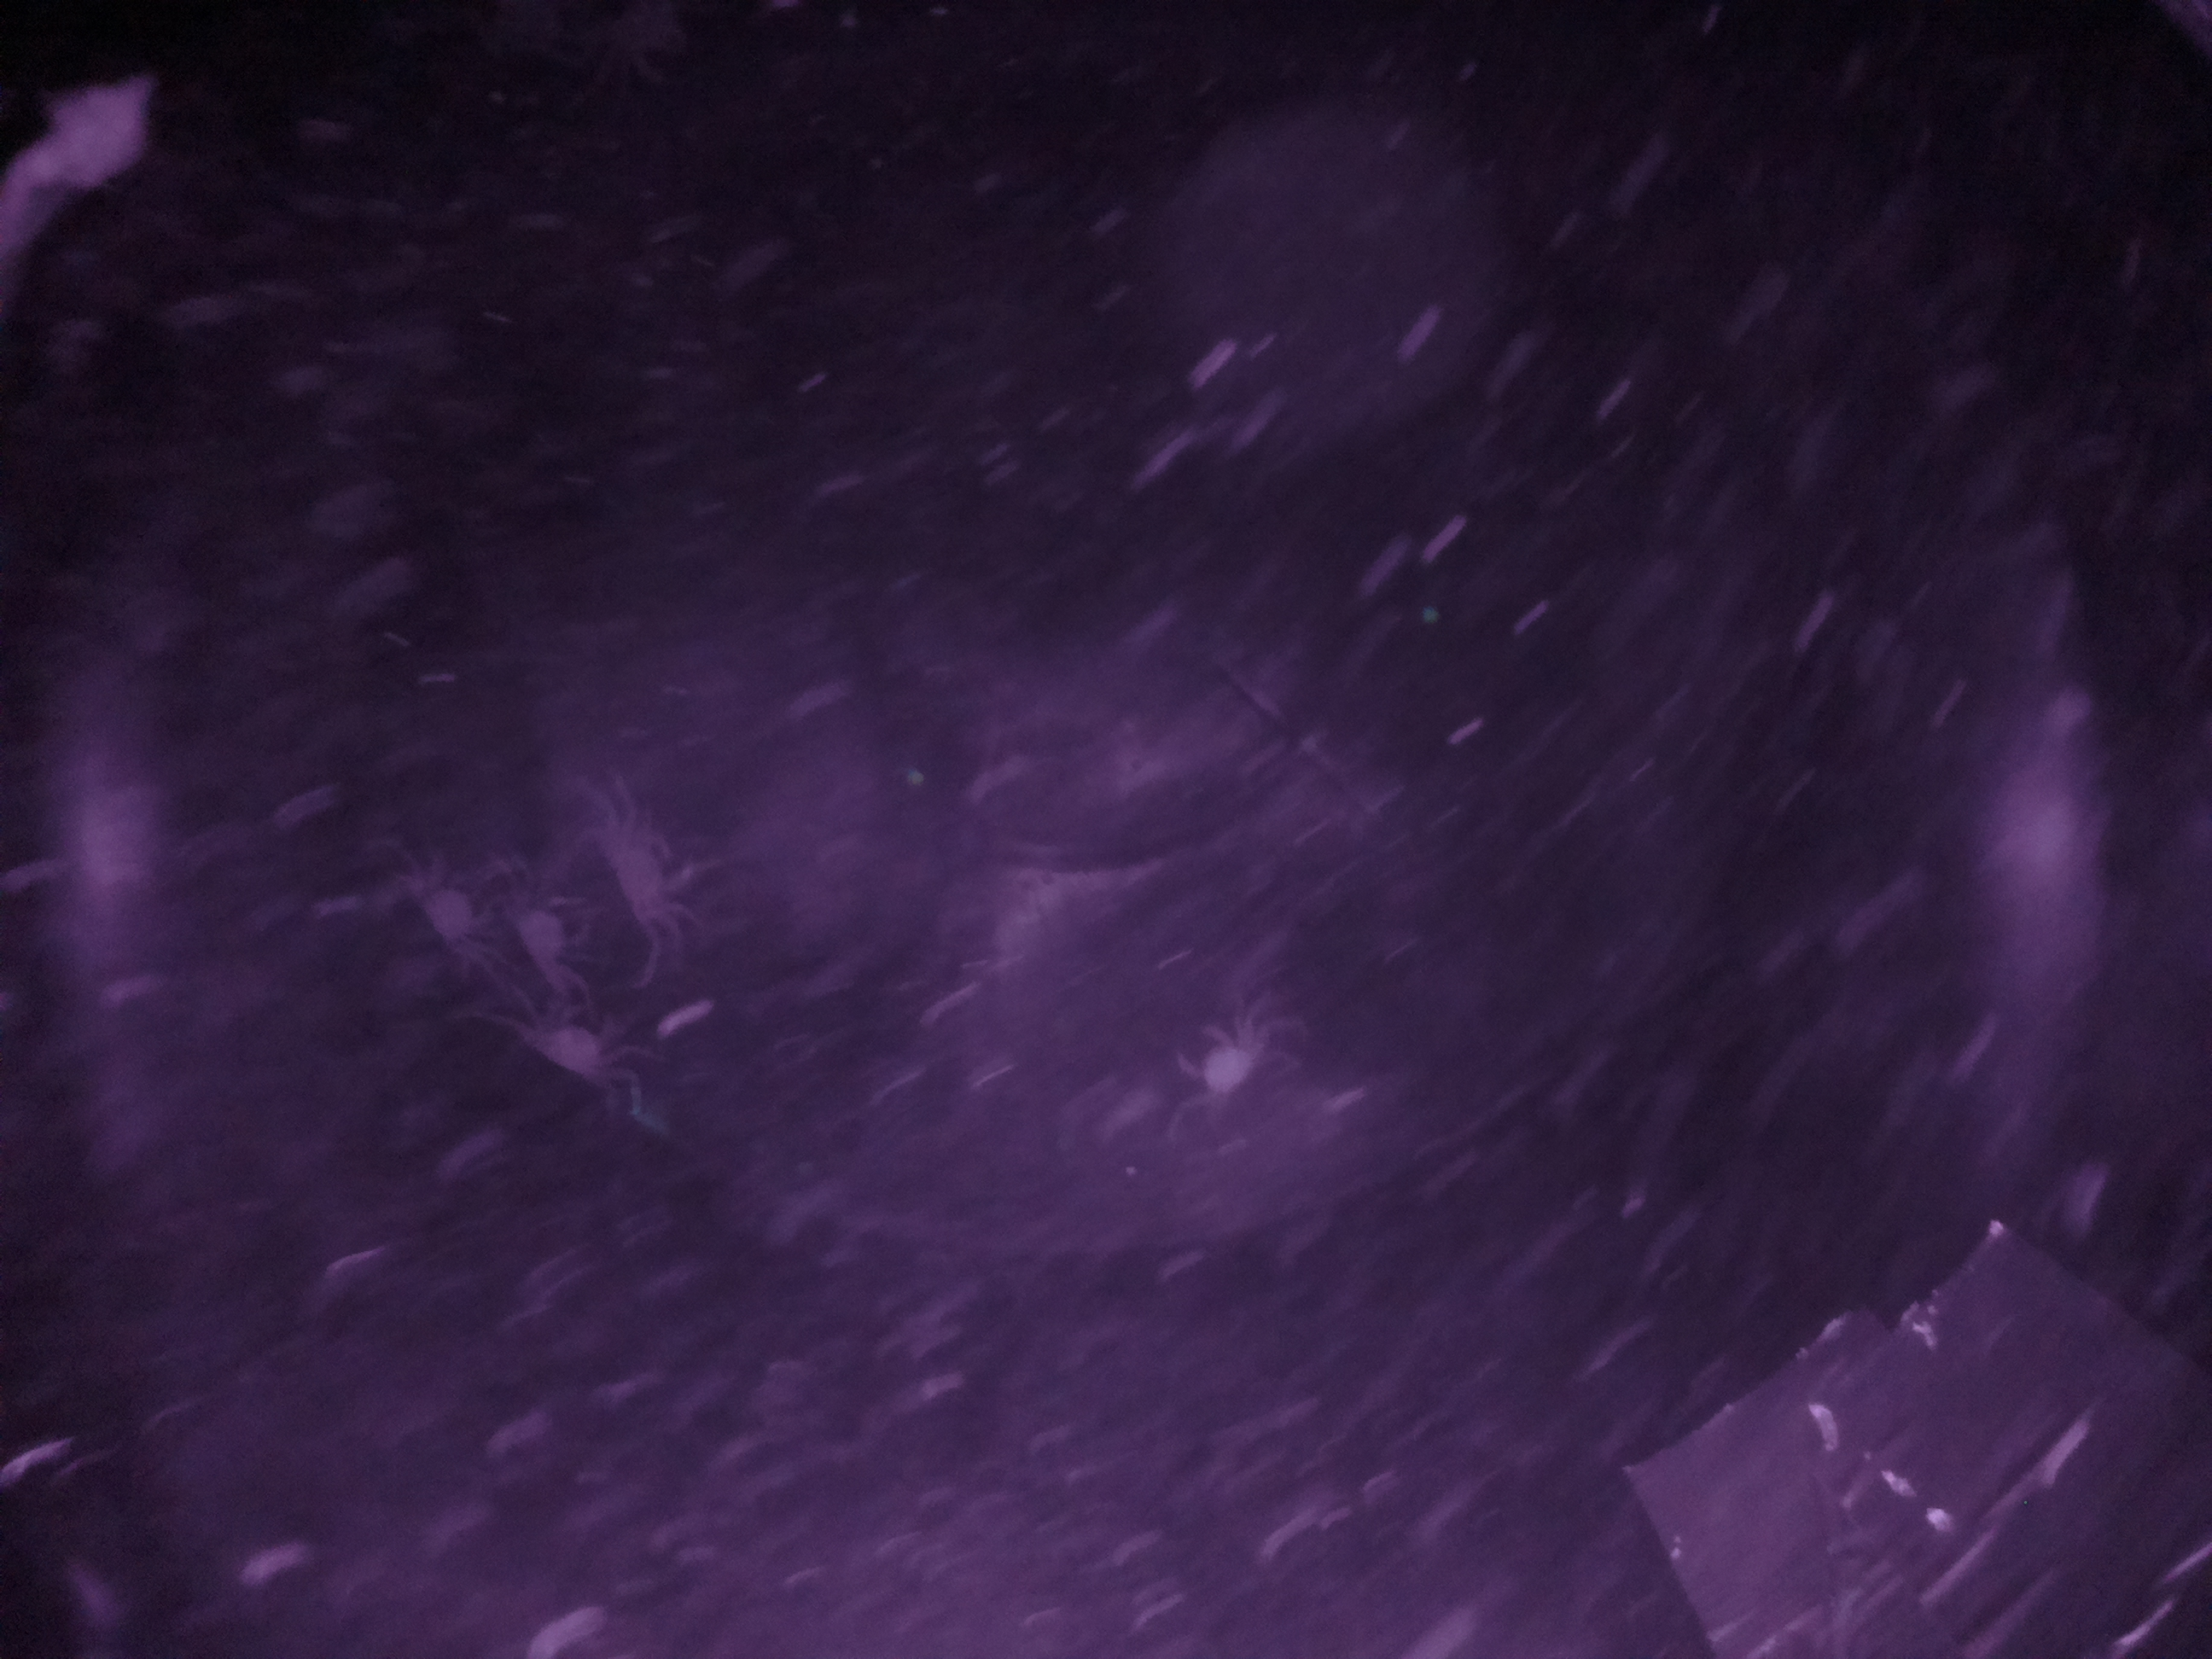Crab: (578, 802, 716, 951), (517, 985, 644, 1117), (1158, 1012, 1282, 1122), (498, 885, 610, 985)
